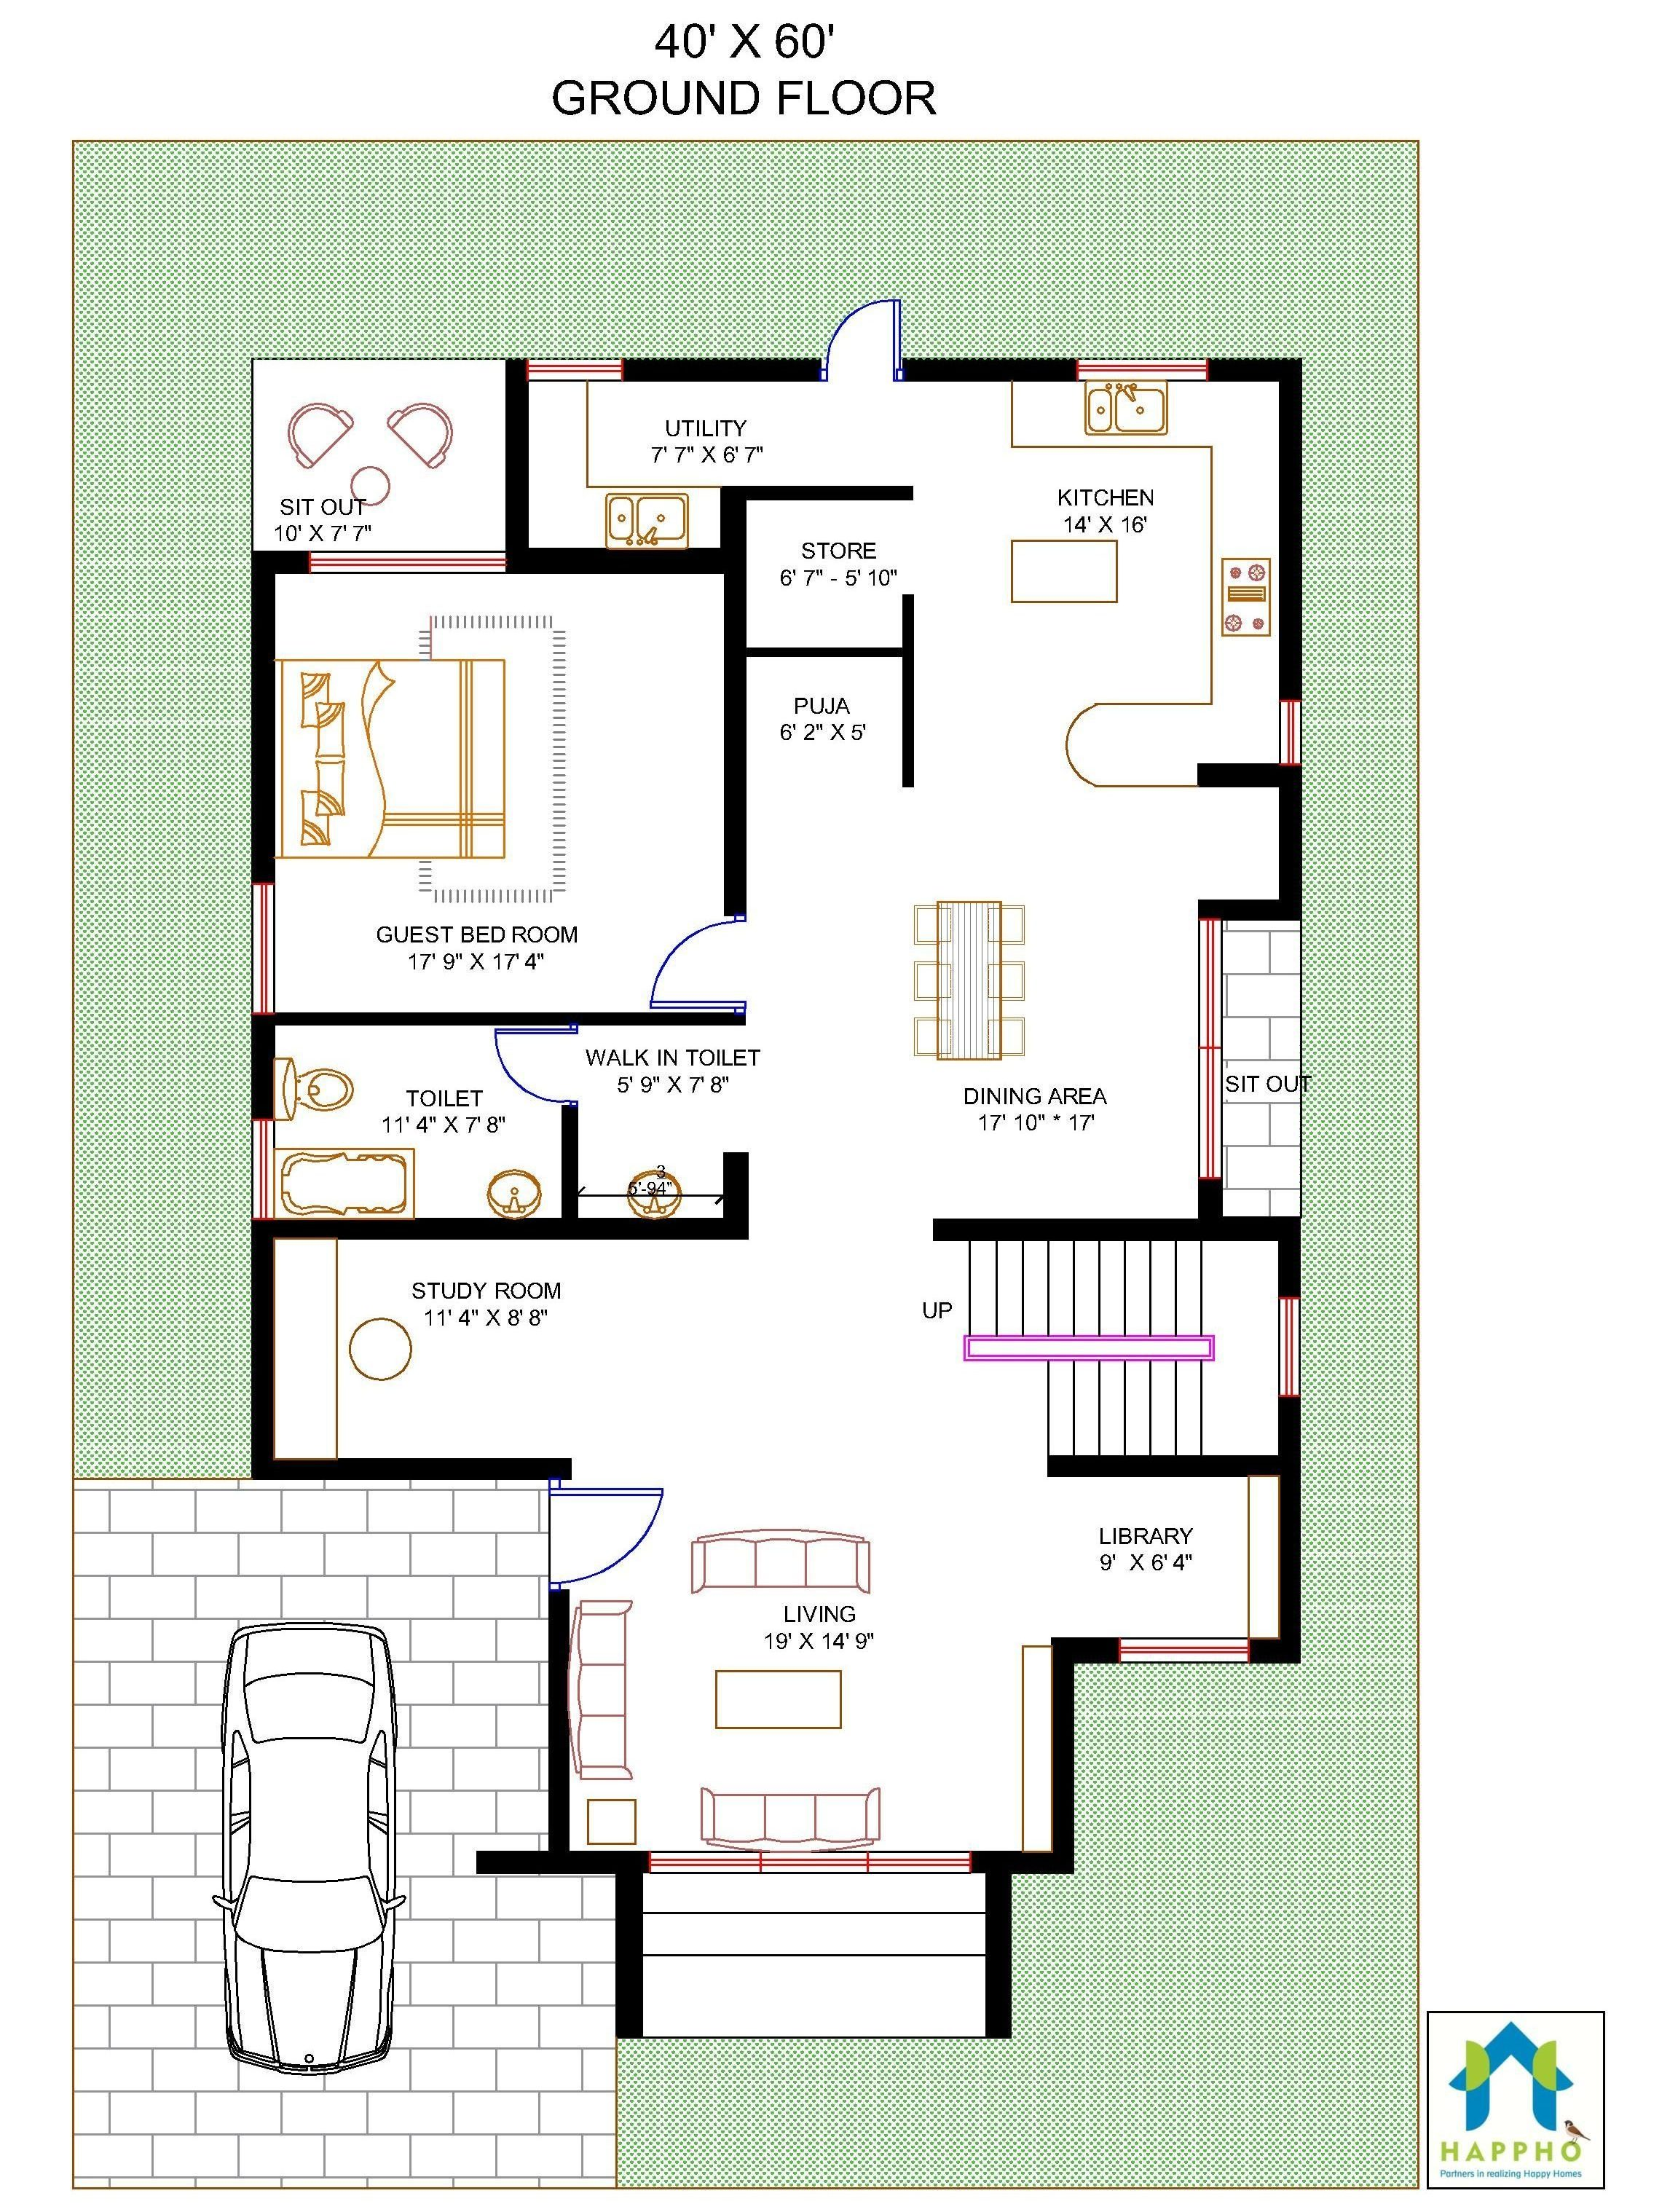window: (649, 1847, 978, 1877), (1197, 917, 1227, 1181), (307, 548, 508, 578), (1116, 1636, 1253, 1667), (1073, 356, 1211, 386), (249, 881, 277, 1015), (1276, 1294, 1304, 1398), (523, 356, 626, 384), (250, 1116, 277, 1220), (1276, 696, 1304, 768)
